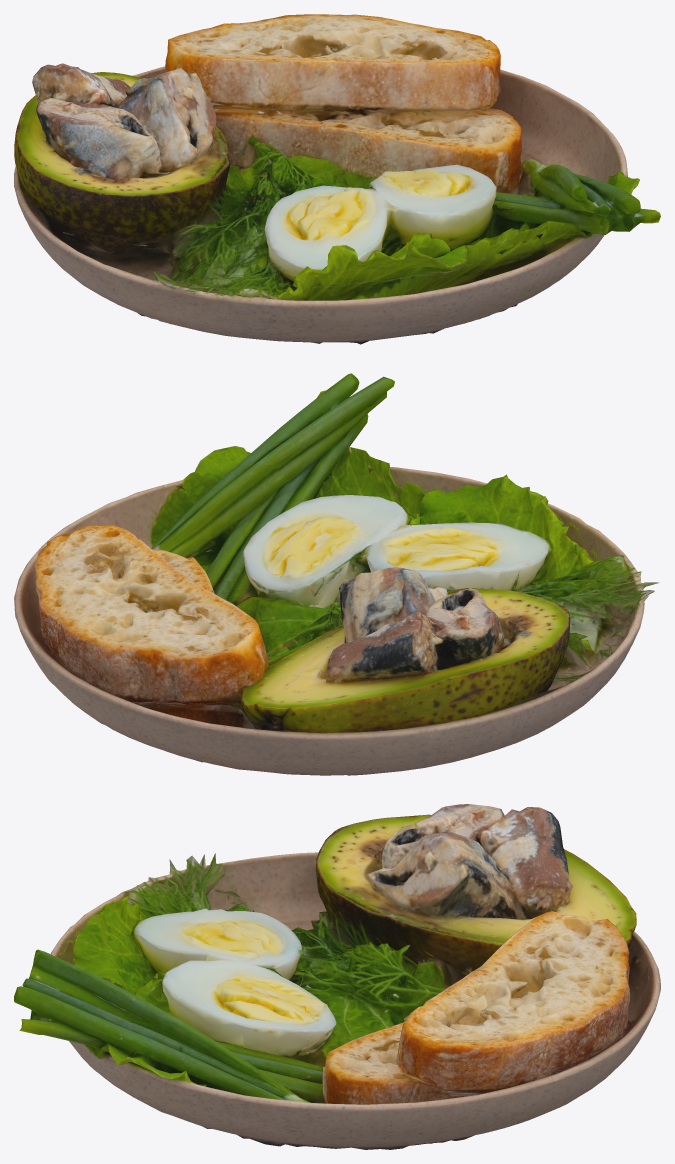
Rendered from shrek_breakfast.glb.
The picture shows the model from 3 angles, top to bottom: view 1: azimuth 30°, elevation 25°; view 2: azimuth 150°, elevation 25°; view 3: azimuth 270°, elevation 25°; orthographic projection. The views are drawn at different scales.
Parts seen in each view (by area): view 1: Zavtrak LP_0; view 2: Zavtrak LP_0; view 3: Zavtrak LP_0.
Boxes of the visible parts, x1=… form: Zavtrak LP_0: x1=14, y1=14, x2=660, y2=344; Zavtrak LP_0: x1=14, y1=373, x2=659, y2=775; Zavtrak LP_0: x1=14, y1=804, x2=660, y2=1149.
Size of the model in its own units: 0.162 by 0.0465 by 0.1704.
1 material, 1 textured.
